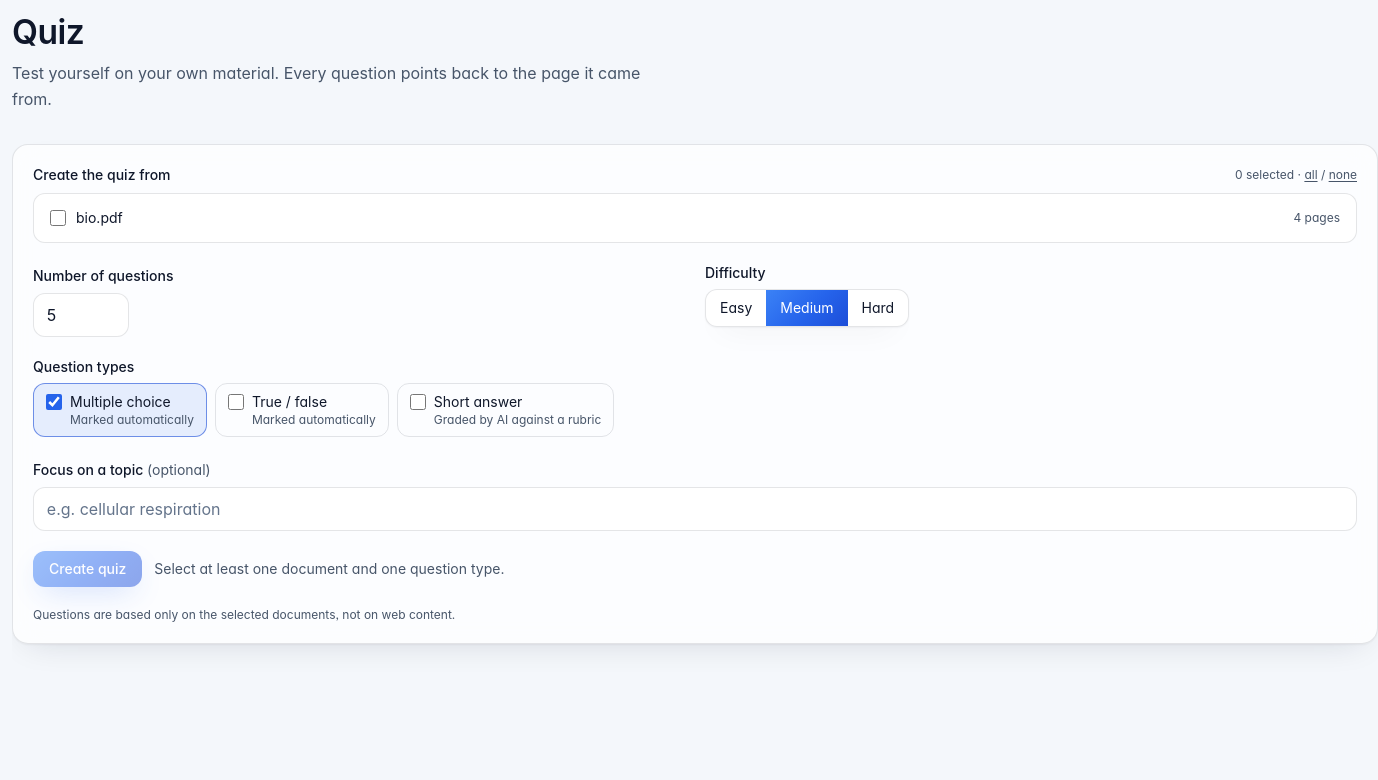
Test: Quiz page flow › shows a generation error without losing the form
The width and height of the screenshot is (1378, 780).
Click the checkbox labelled "bio.pdf 4 pages" at [58, 218], box [50,210,66,226]
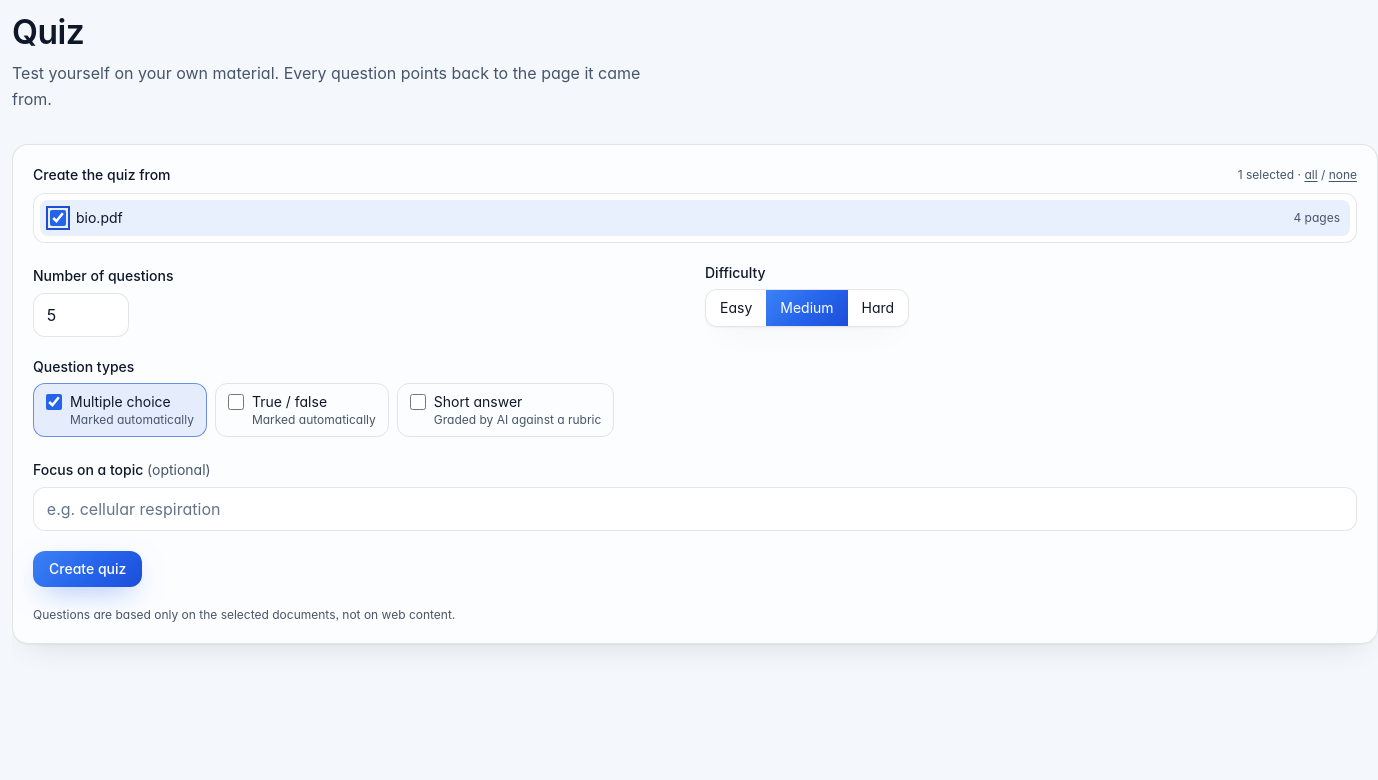
Click the button "Create quiz" at [88, 568], box [33,550,142,586]
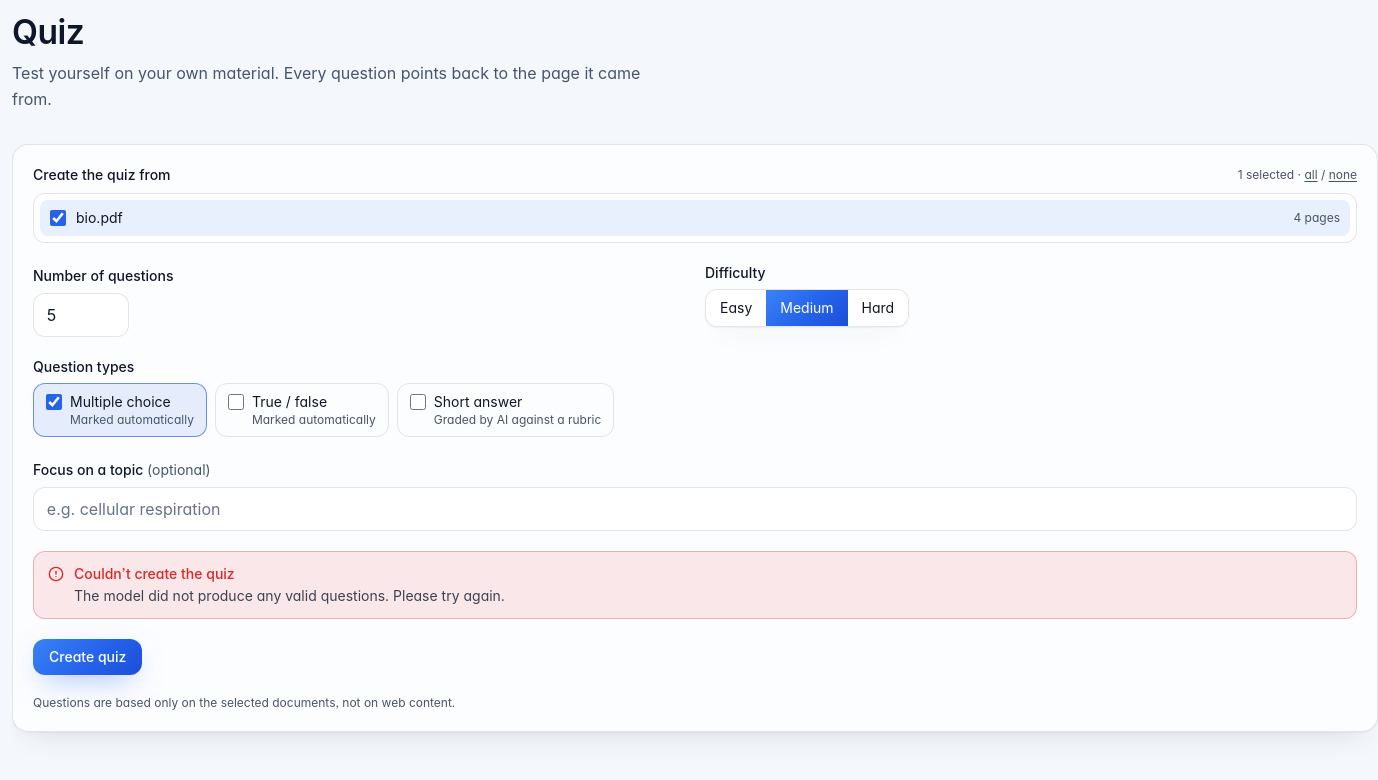
Check: the button "Create quiz" is enabled, box [33,638,142,674]
Check: the message shows "did not produce any valid questions", box [74,586,505,604]
